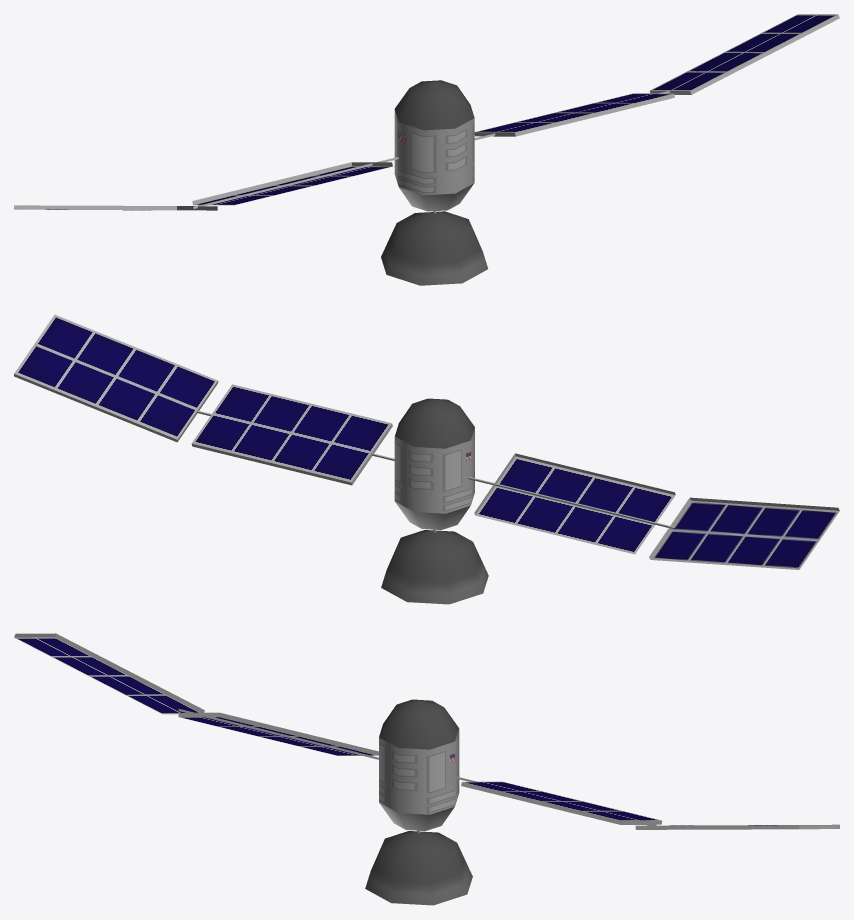
The model's file is satellite.dae.
3 renders of one model, top to bottom at view 1: azimuth 30°, elevation 25°; view 2: azimuth 150°, elevation 25°; view 3: azimuth 330°, elevation 25°, orthographic.
Parts seen in each view (by area): view 1: Cylinder.1; view 2: Cylinder.1; view 3: Cylinder.1.
Part boxes in pixels (left/top/right/bottom): Cylinder.1: left=14, top=14, right=839, bottom=285; Cylinder.1: left=14, top=314, right=839, bottom=604; Cylinder.1: left=14, top=633, right=839, bottom=905.
Bounding box in the file's own units: 1289 × 310 × 163.
Materials: 1 (1 with a texture image).
